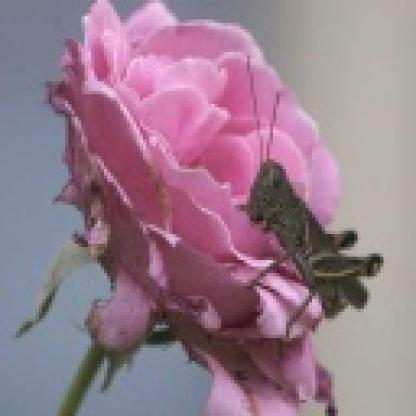grasshopper: (231, 101, 384, 319)
